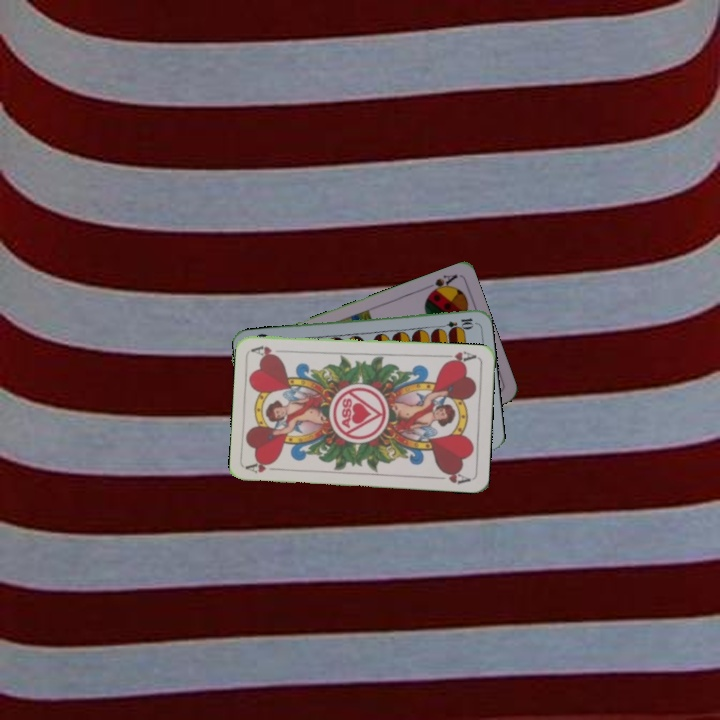E10: (435, 314, 476, 331)
HA: (439, 347, 479, 367), (244, 457, 284, 475)
SA: (424, 270, 460, 298)
